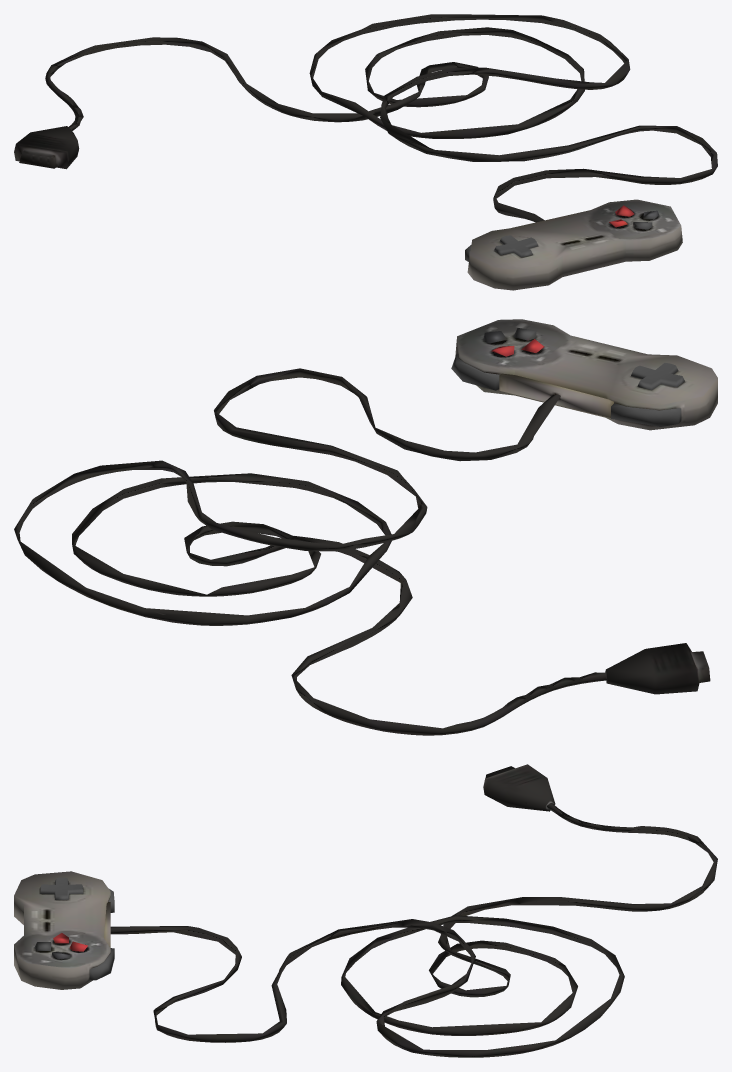
Rendered from cc0_gamepad.glb.
3 views of the same model, one above another, from view 1: azimuth 30°, elevation 25°; view 2: azimuth 150°, elevation 25°; view 3: azimuth 270°, elevation 25° (orthographic). The views are drawn at different scales.
Visible parts, largest first — view 1: gamepad; view 2: gamepad; view 3: gamepad.
Part boxes in pixels (x1,y1,x2,y2): gamepad: [14, 14, 717, 290]; gamepad: [14, 319, 717, 735]; gamepad: [14, 764, 717, 1057].
Size of the model in its own units: 0.4037 by 0.0187 by 0.4334.
Materials: 1 (1 with a texture image).
